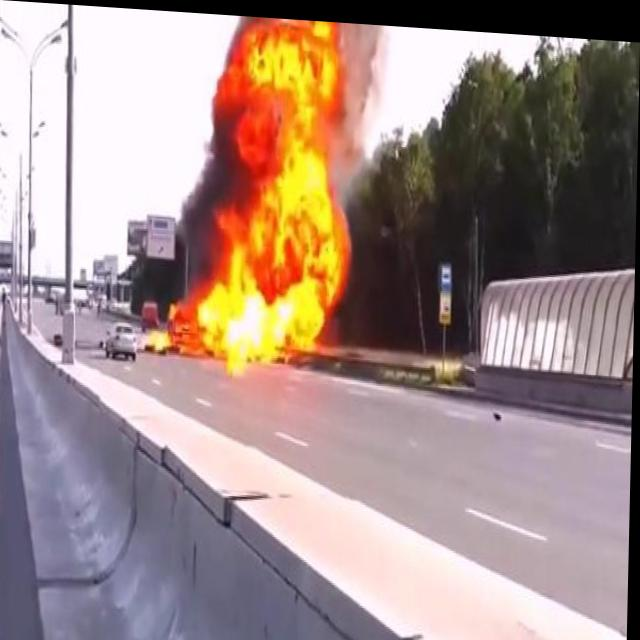fire: (147, 8, 361, 371)
